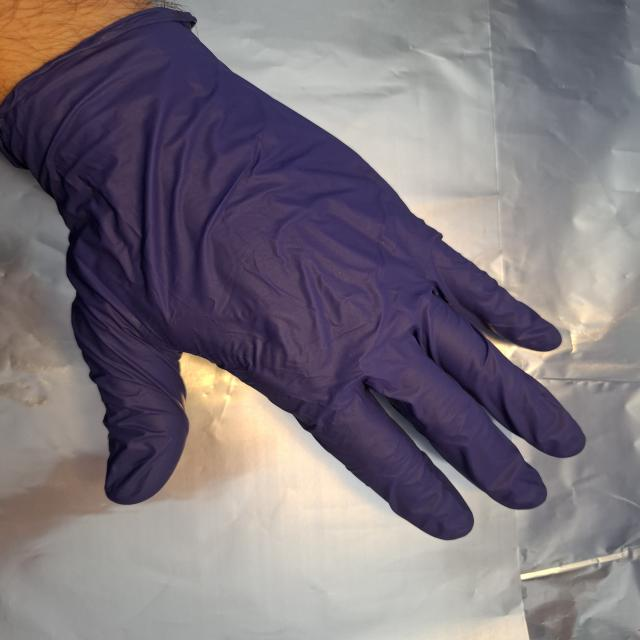glove_on: (4, 8, 592, 543)
